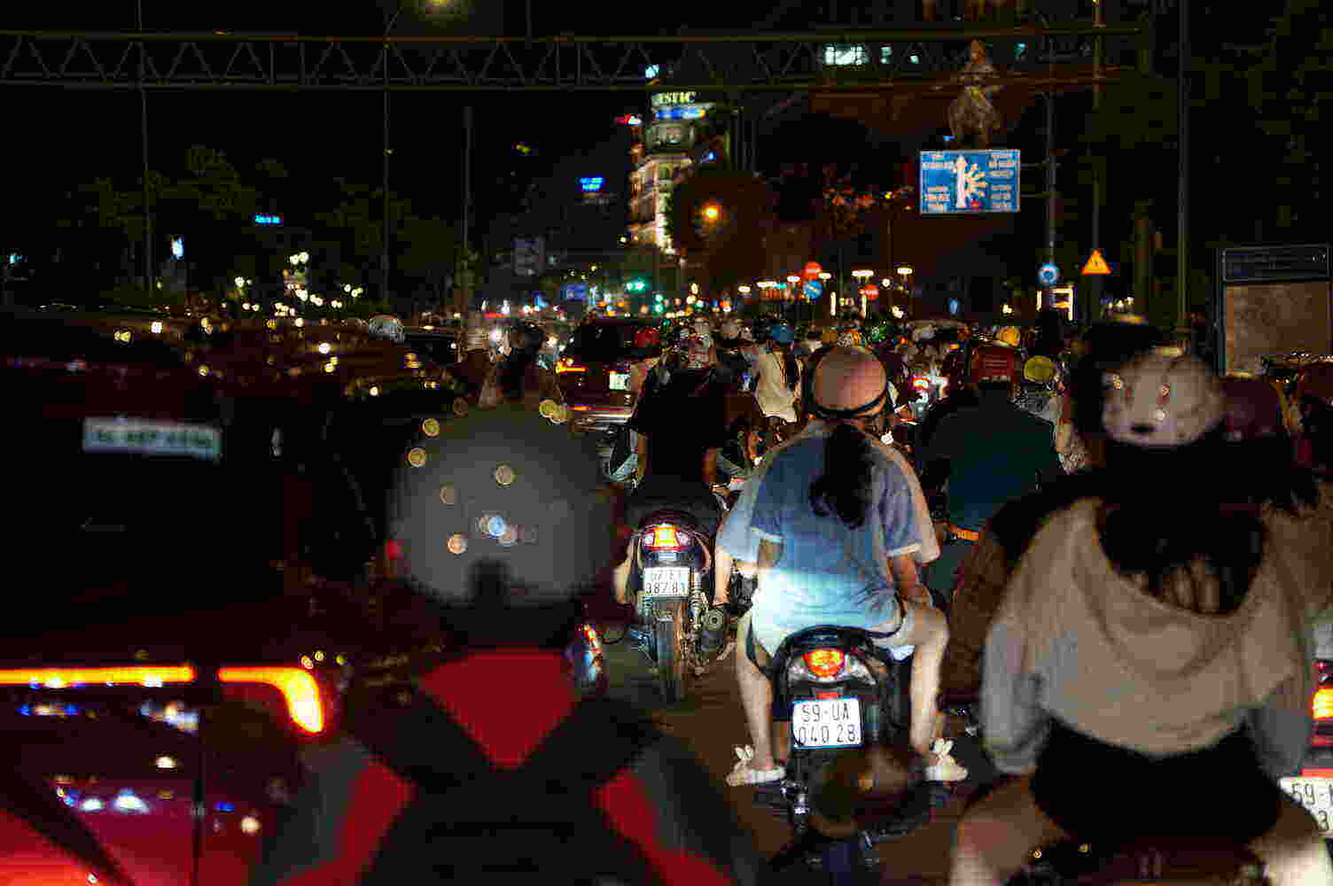Bien-so: (792, 698, 862, 747), (1282, 775, 1332, 834), (643, 565, 689, 606)
